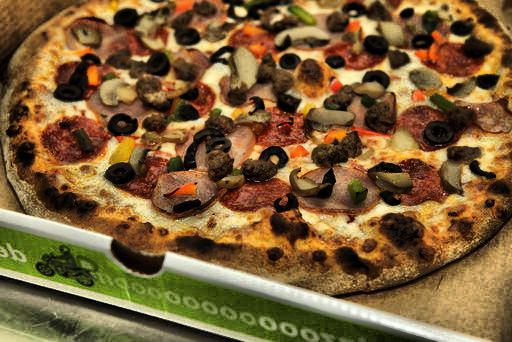pizza: (10, 2, 512, 258)
